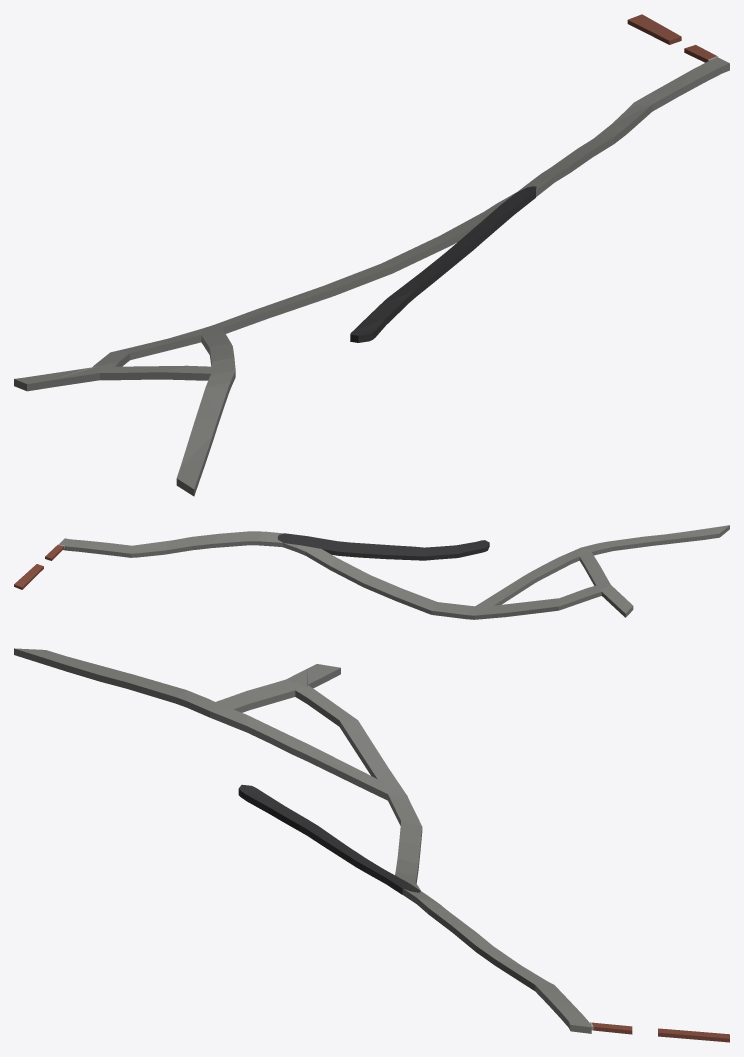
The picture shows the model from 3 angles, top to bottom: view 1: azimuth 30°, elevation 25°; view 2: azimuth 150°, elevation 25°; view 3: azimuth 270°, elevation 25°; orthographic projection. The views are drawn at different scales.
Size of the model in its own units: 147 by 11.77 by 119.
